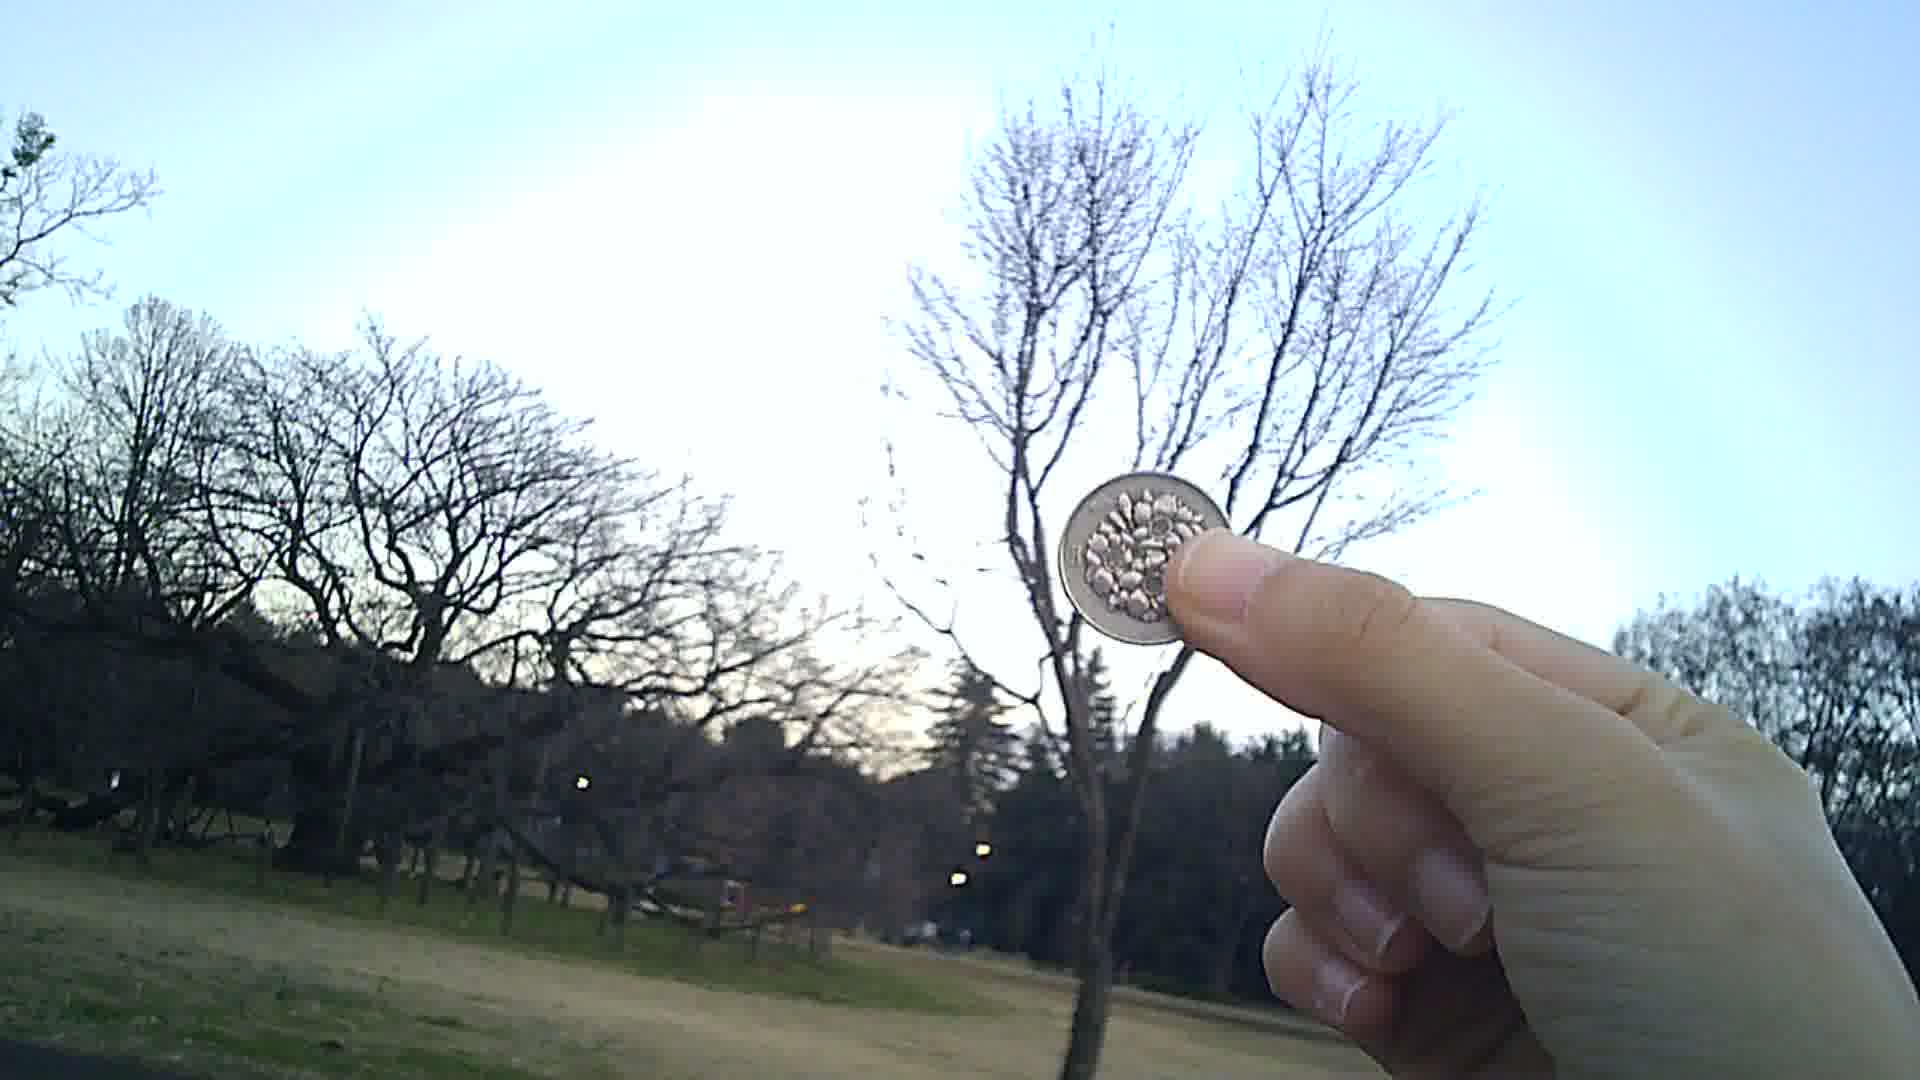100 Yen: (1052, 481, 1237, 633)
